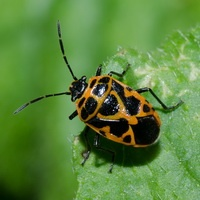insect: (14, 21, 182, 147)
